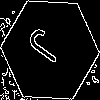J: (25, 25, 72, 71)
